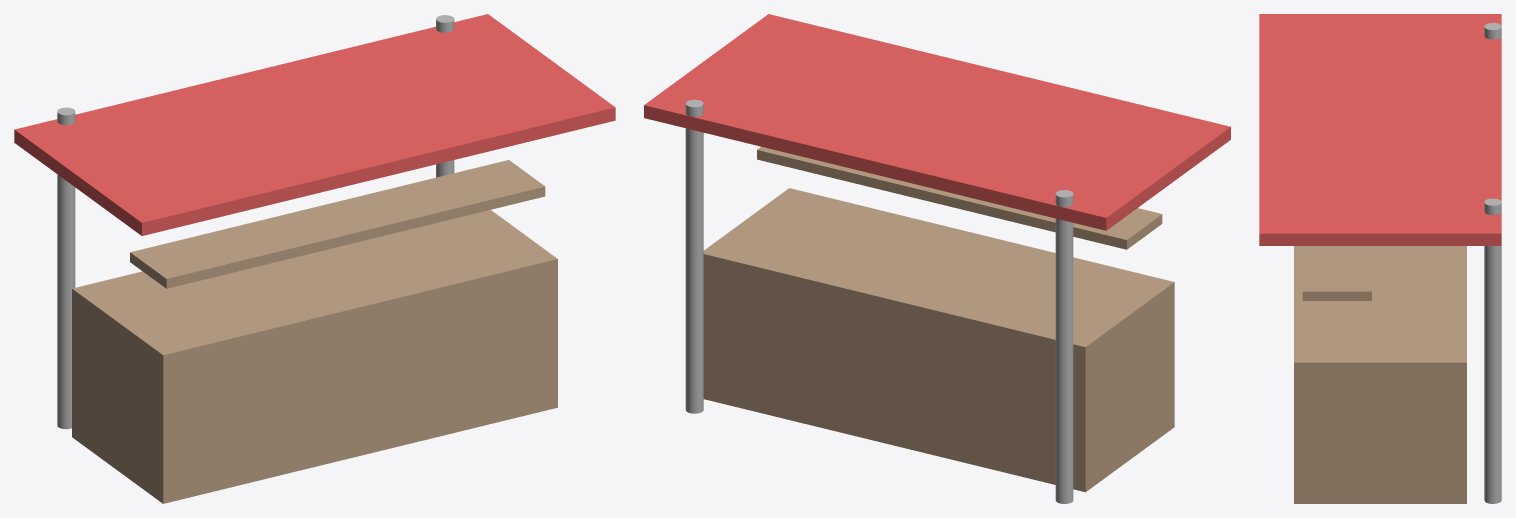
The model's file is market_stall.glb.
3 views of the same model, side by side, from view 1: azimuth 30°, elevation 25°; view 2: azimuth 150°, elevation 25°; view 3: azimuth 270°, elevation 25° (orthographic). The views are drawn at different scales.
Visible parts, largest first — view 1: Counter, Canopy, Shelf, PoleLeft; view 2: Counter, Canopy, Shelf, PoleRight, PoleLeft; view 3: Canopy, Counter, PoleRight, Shelf, PoleLeft.
Part boxes in pixels (box(x1,y1,x2,y2)): Counter: box(72, 210, 557, 503); Canopy: box(14, 14, 615, 235); Shelf: box(130, 160, 545, 288); PoleLeft: box(57, 107, 75, 429); Counter: box(703, 188, 1174, 492); Canopy: box(644, 14, 1230, 230); Shelf: box(757, 146, 1162, 249); PoleRight: box(685, 99, 703, 413); PoleLeft: box(1055, 190, 1073, 503); Canopy: box(1259, 14, 1501, 245); Counter: box(1294, 246, 1466, 503); PoleRight: box(1484, 198, 1501, 503); Shelf: box(1302, 246, 1371, 300); PoleLeft: box(1484, 23, 1501, 39).
Size of the model in its own units: 3 by 1.9 by 1.4.
